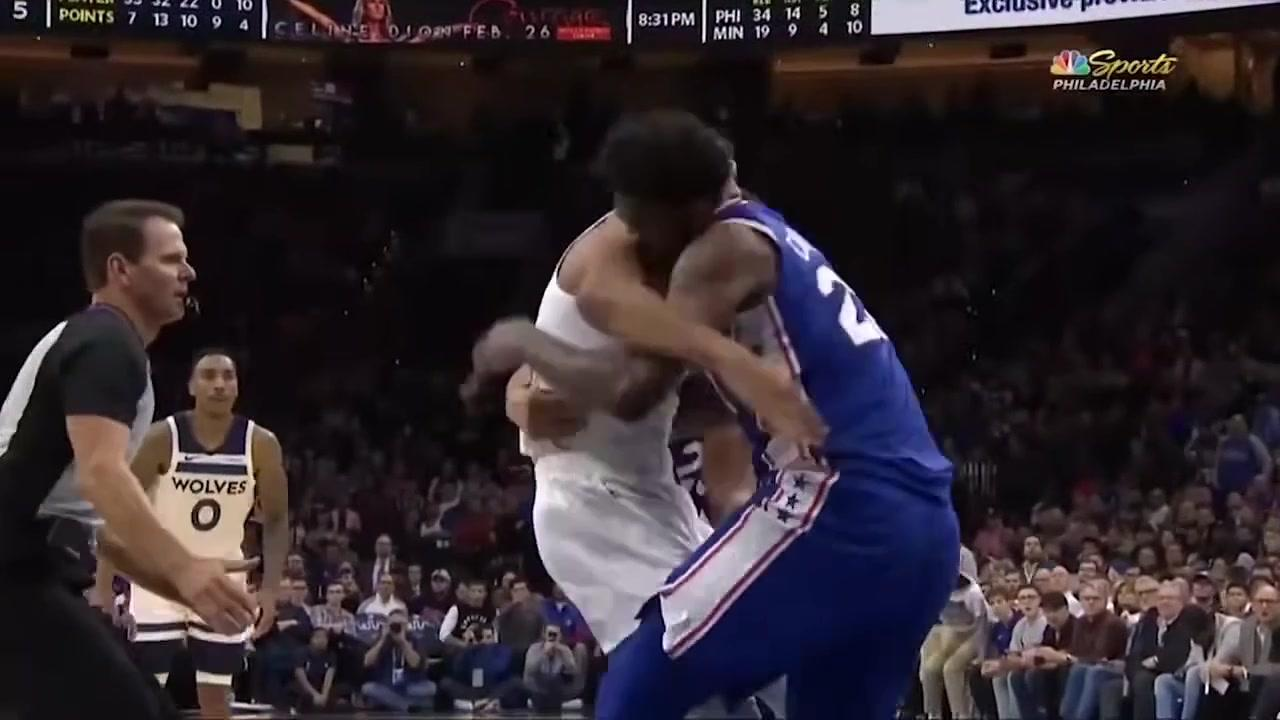foul: (446, 116, 969, 699)
